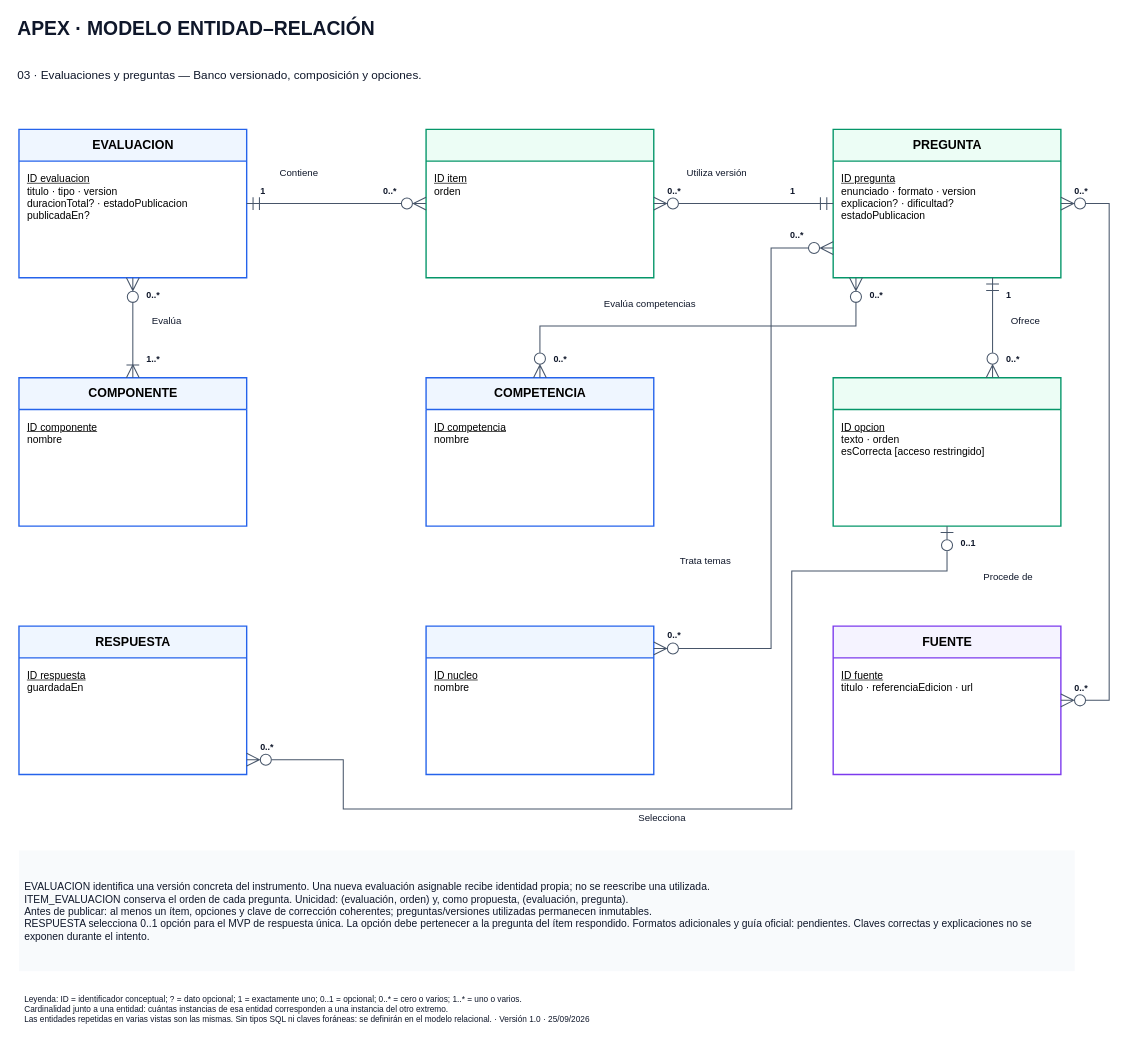
This 1141x1045 diagram has some shape labels left out. The box of each missing label's shape, as (x1, y1, x2, y2) in pixels:
ITEM_EVALUACION: (425, 128, 654, 278)
NUCLEO_TEMATICO: (425, 625, 654, 775)
OPCION_RESPUESTA: (832, 377, 1061, 526)
